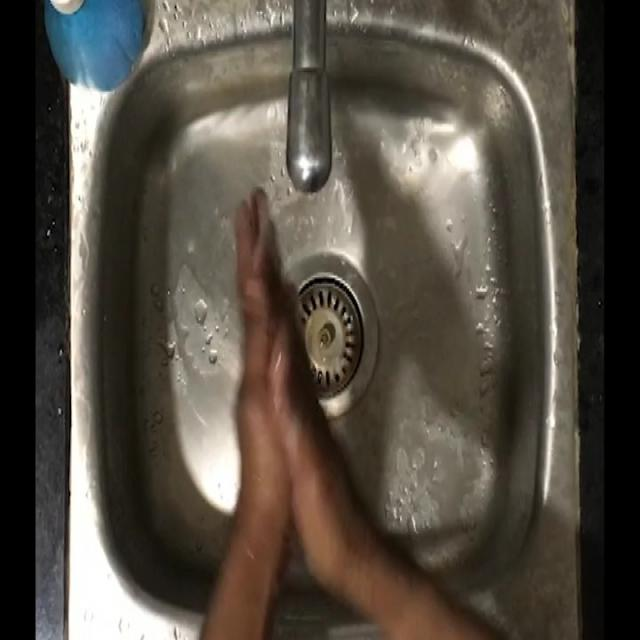step_1: (212, 175, 344, 522)
